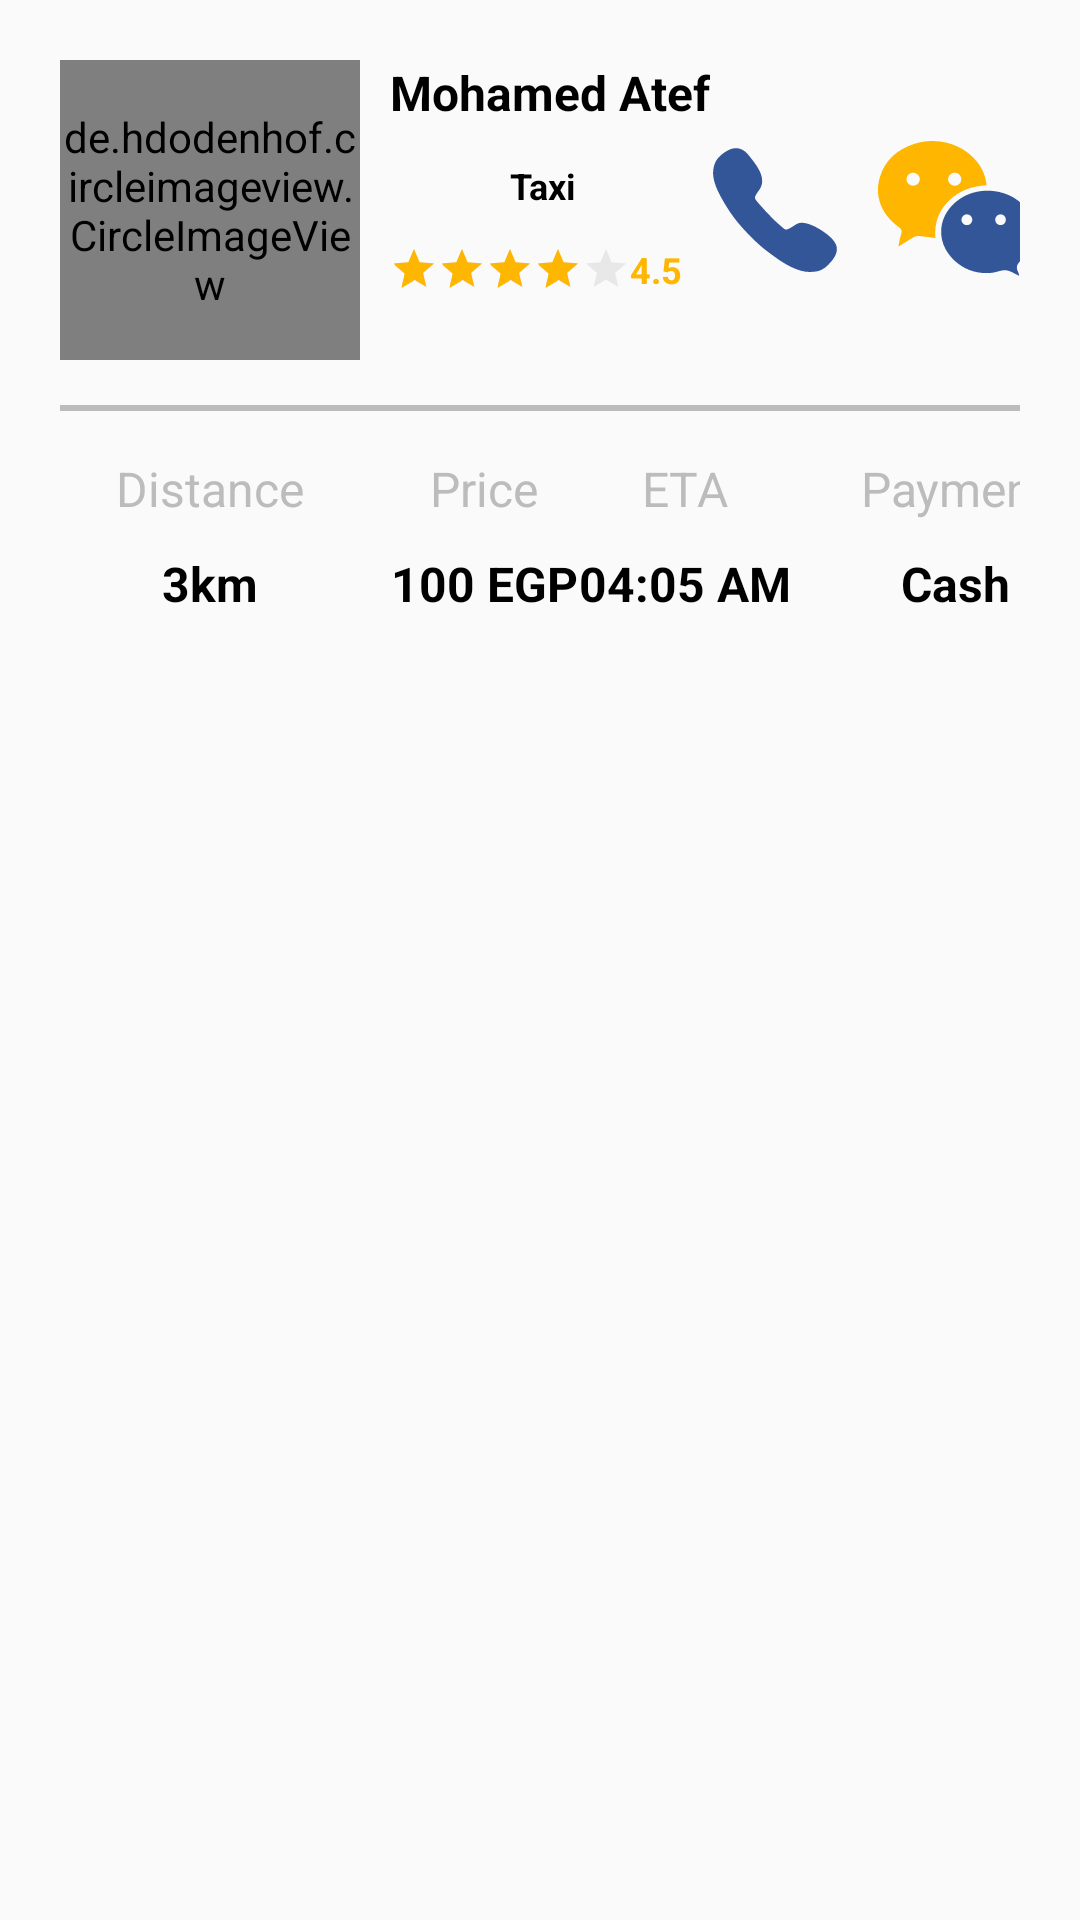

Where icons sit on this 1080px x 1920px app screen, as rect(x1, y1, x2, y2):
chat: rect(878, 141, 1020, 276)
